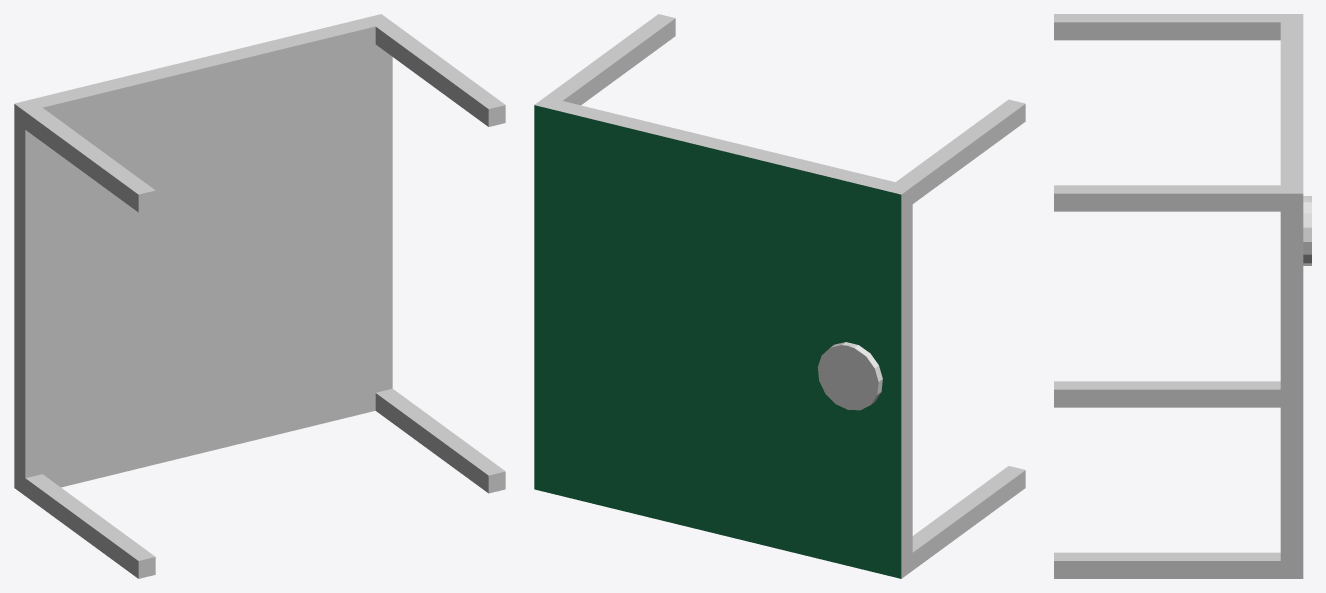
The model's file is table_blend.dae.
The picture shows the model from 3 angles, left to right: view 1: azimuth 30°, elevation 25°; view 2: azimuth 150°, elevation 25°; view 3: azimuth 270°, elevation 25°; orthographic projection.
Parts seen in each view (by area): view 1: Table; view 2: Table; view 3: Table.
Boxes of the visible parts, box(x1,y1,x2,y2) form: Table: box(14, 14, 505, 578); Table: box(534, 14, 1025, 578); Table: box(1054, 14, 1311, 578).
Size of the model in its own units: 1.5 by 0.91 by 1.5.
3 materials, 1 textured.
